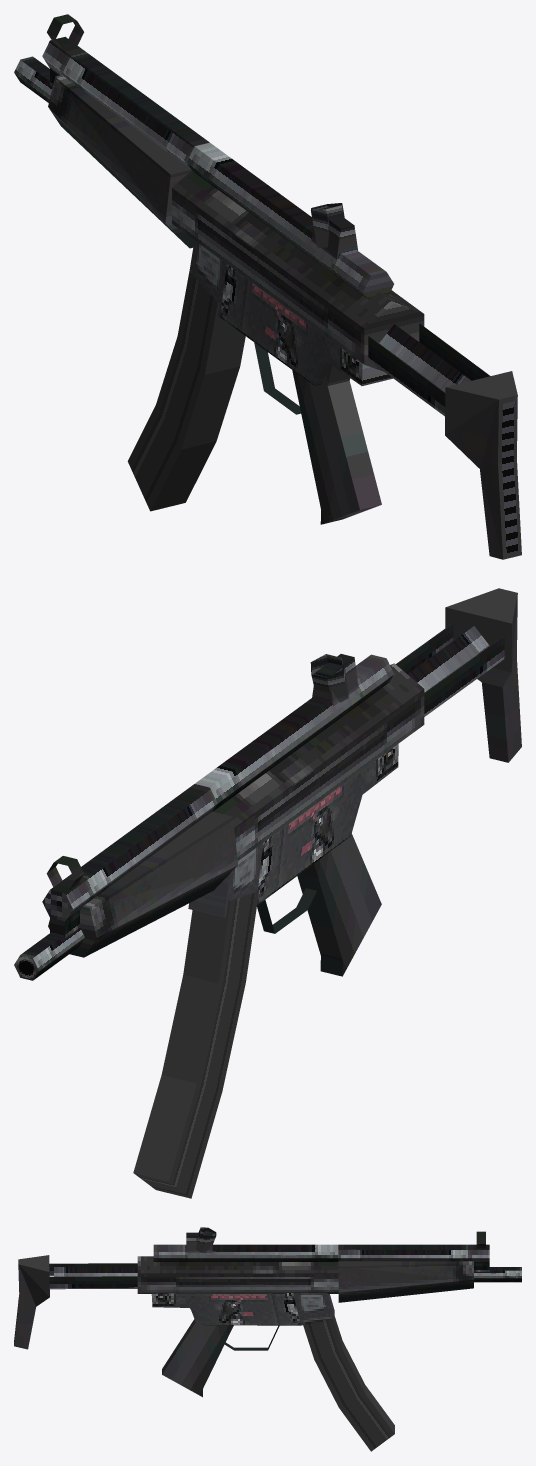
Rendered from recovered_gun_mp5.glb.
The picture shows the model from 3 angles, top to bottom: view 1: azimuth 30°, elevation 25°; view 2: azimuth 150°, elevation 25°; view 3: azimuth 270°, elevation 25°; orthographic projection. The views are drawn at different scales.
Visible parts, largest first — view 1: Gun_0714c50f9222; view 2: Gun_0714c50f9222; view 3: Gun_0714c50f9222.
Boxes of the visible parts, left/top/right/bottom form: Gun_0714c50f9222: left=14, top=14, right=521, bottom=559; Gun_0714c50f9222: left=20, top=588, right=521, bottom=1198; Gun_0714c50f9222: left=14, top=1227, right=521, bottom=1451.
Size of the model in its own units: 0.0531 by 0.2918 by 0.6141.
2 materials, 2 textured.
